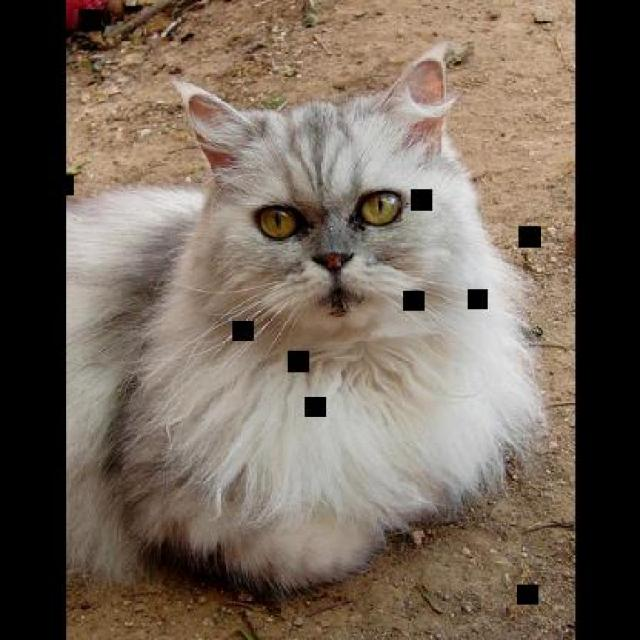unauthorized: (65, 39, 548, 598)
